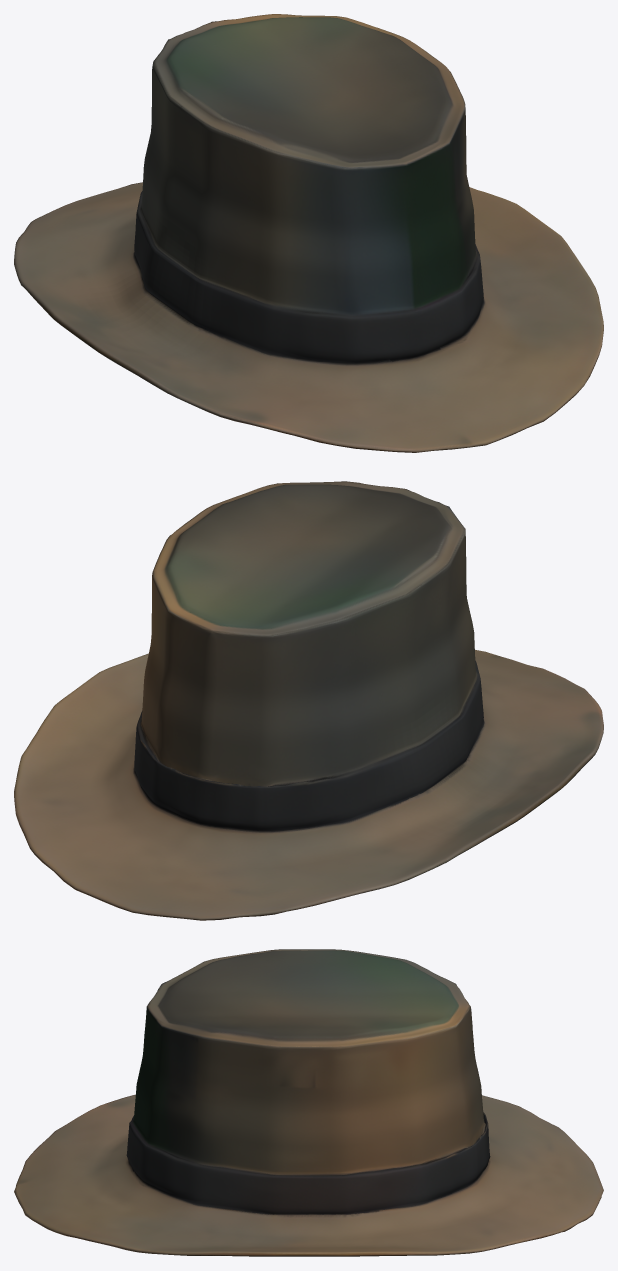
Rendered from Phedora.fbx.
3 renders of one model, top to bottom at view 1: azimuth 30°, elevation 25°; view 2: azimuth 150°, elevation 25°; view 3: azimuth 270°, elevation 25°, orthographic. The views are drawn at different scales.
Visible parts, largest first — view 1: model.008; view 2: model.008; view 3: model.008.
Part boxes in pixels (x1,y1,x2,y2): model.008: [14, 14, 603, 452]; model.008: [14, 481, 603, 920]; model.008: [14, 949, 603, 1256].
Size of the model in its own units: 72.45 by 35.57 by 95.69.
